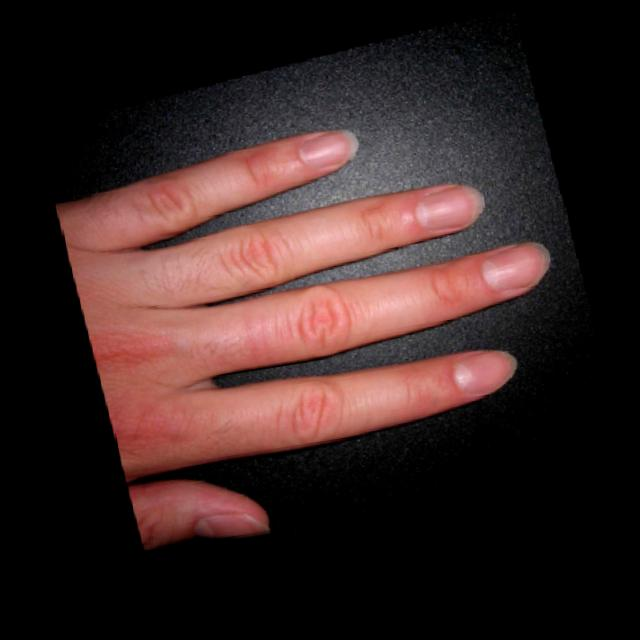Nail: (482, 243, 548, 290), (416, 185, 485, 229), (456, 349, 515, 392), (299, 129, 359, 169), (191, 510, 270, 537)
